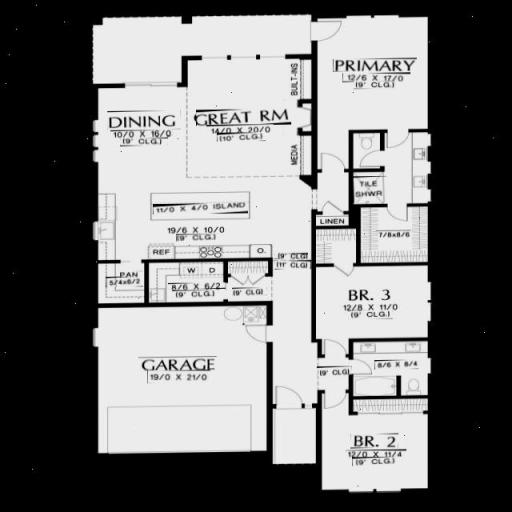Room: (98, 88, 188, 196)
bedroom: (331, 399, 422, 490), (319, 270, 422, 339)
garage: (100, 310, 267, 450)
hall: (191, 62, 313, 194)
